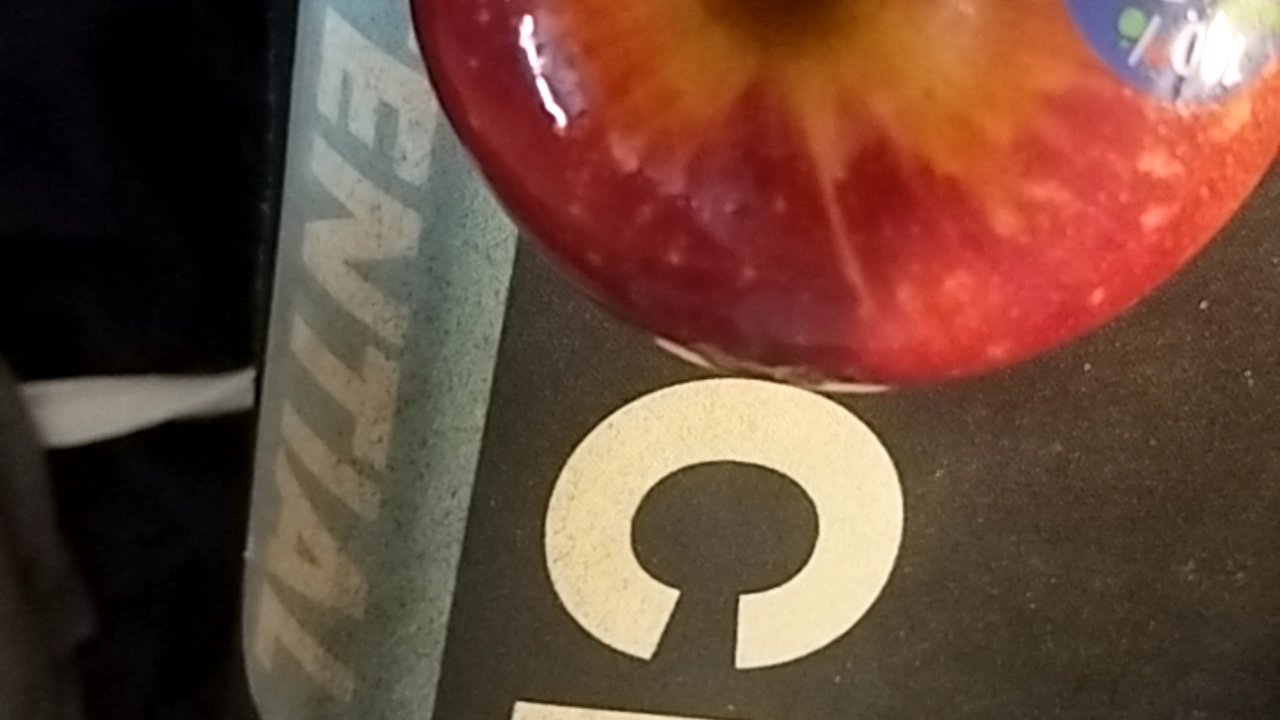apple_rotten: (390, 4, 1279, 411)
